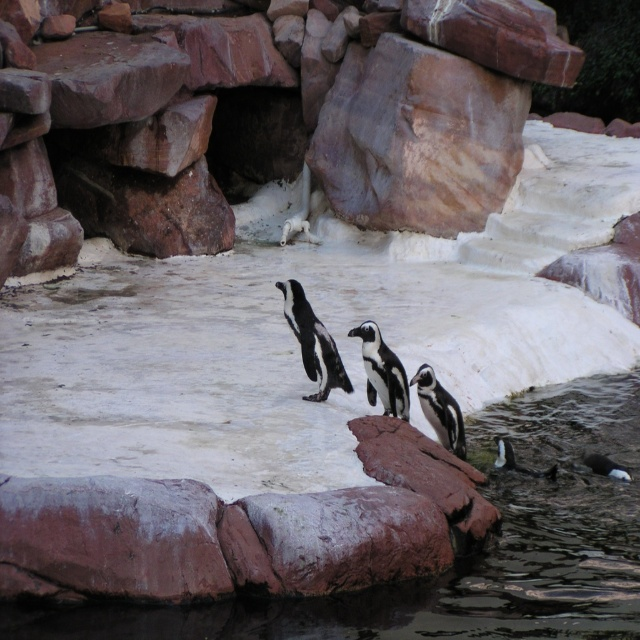Penguin: (271, 272, 349, 410), (346, 318, 407, 429), (410, 363, 463, 469), (492, 437, 561, 476)
